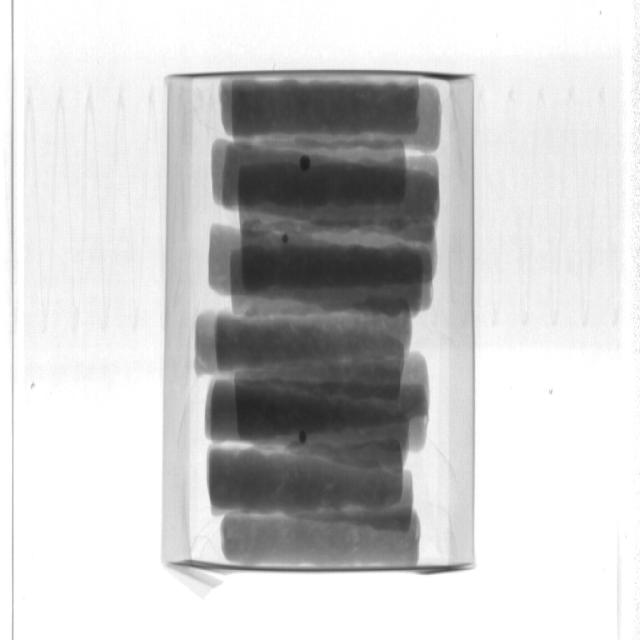ym: (301, 157, 312, 173), (298, 432, 307, 443), (284, 235, 290, 244)
